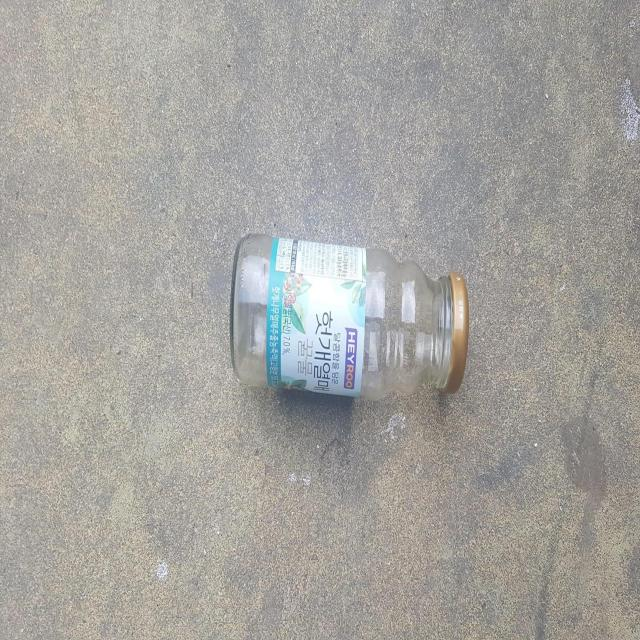glass: (231, 235, 469, 399)
